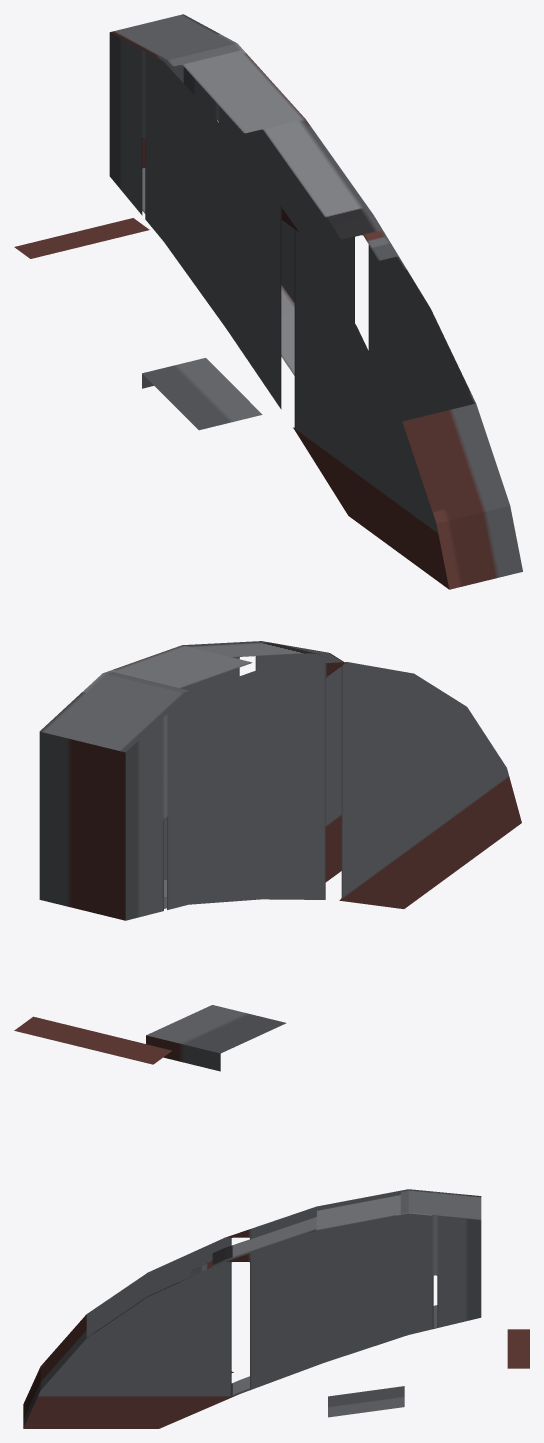
Rendered from section-0.obj.
3 views of the same model, one above another, from view 1: azimuth 30°, elevation 25°; view 2: azimuth 150°, elevation 25°; view 3: azimuth 270°, elevation 25° (orthographic). The views are drawn at different scales.
Bounding box in the file's own units: 0.2713 × 0.62 × 1.35.
